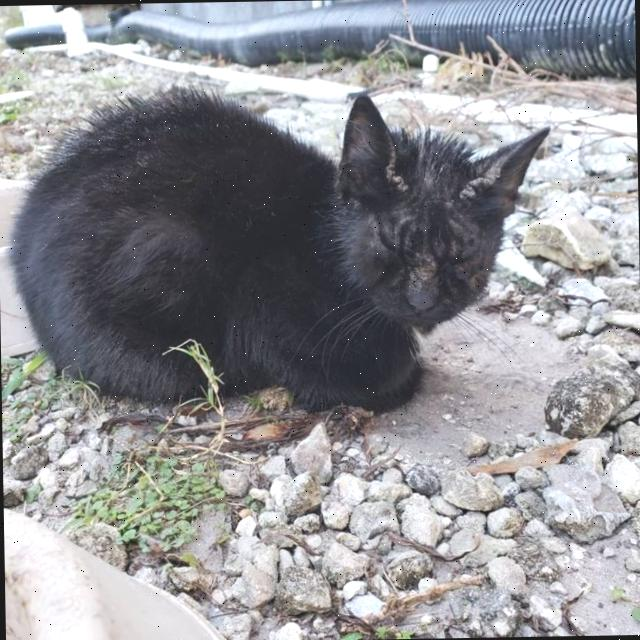cat-scabies: (452, 122, 560, 217), (334, 92, 414, 205), (382, 219, 480, 308)
